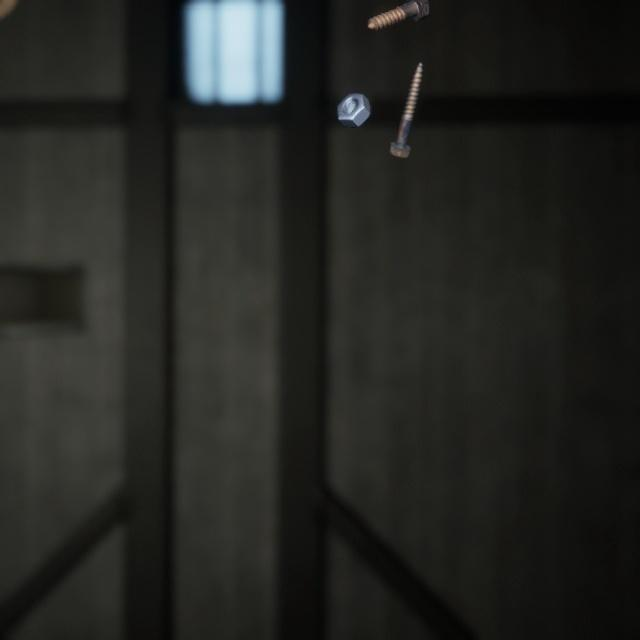bolt: (383, 46, 427, 151), (363, 0, 434, 29)
nut: (334, 77, 376, 119)
